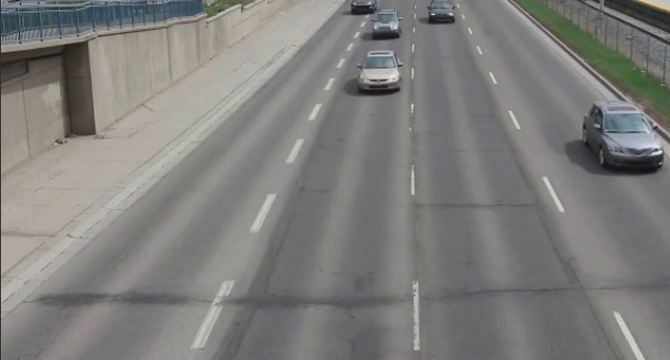car: (580, 103, 665, 176), (358, 49, 407, 97), (373, 10, 406, 37), (429, 1, 460, 24)
